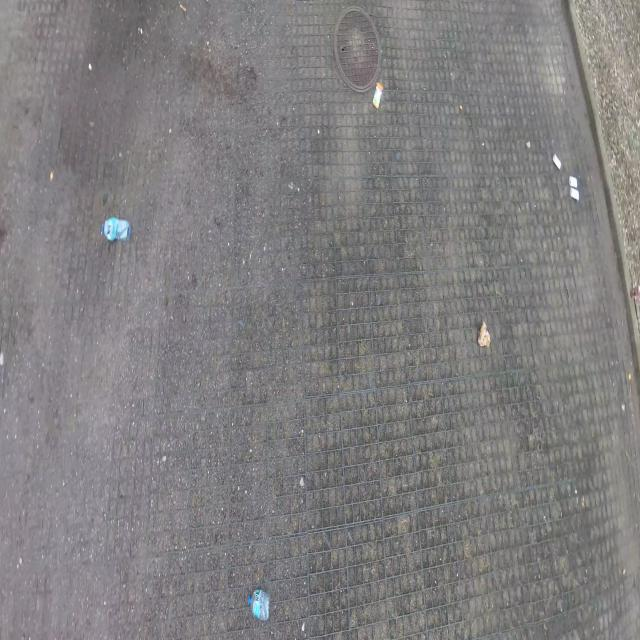rubbish: (101, 217, 132, 243), (247, 589, 270, 622), (477, 321, 491, 350), (372, 81, 384, 109), (552, 154, 561, 170), (631, 285, 639, 300), (570, 188, 579, 200), (569, 176, 577, 188)
